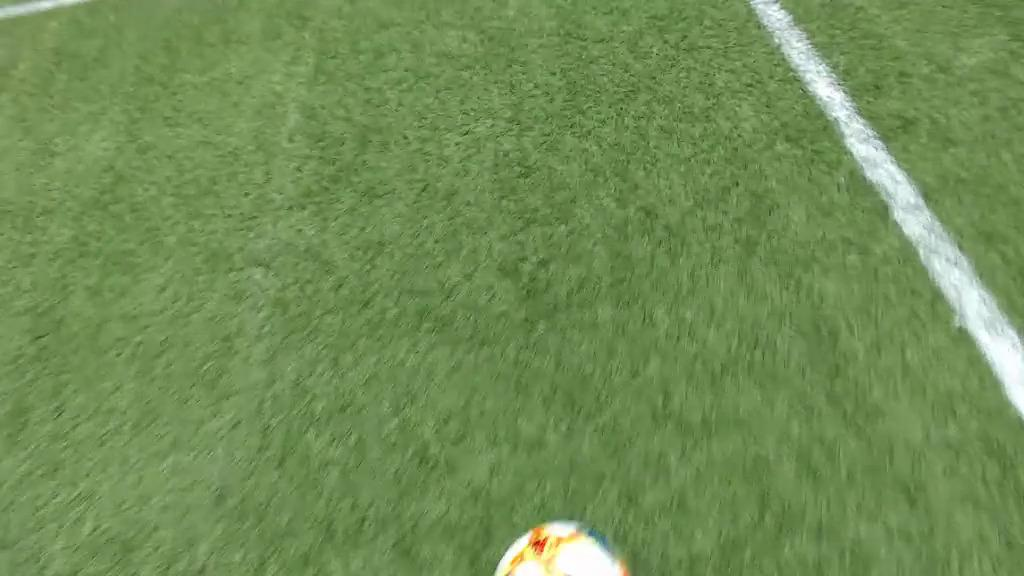ball: (495, 521, 625, 576)
